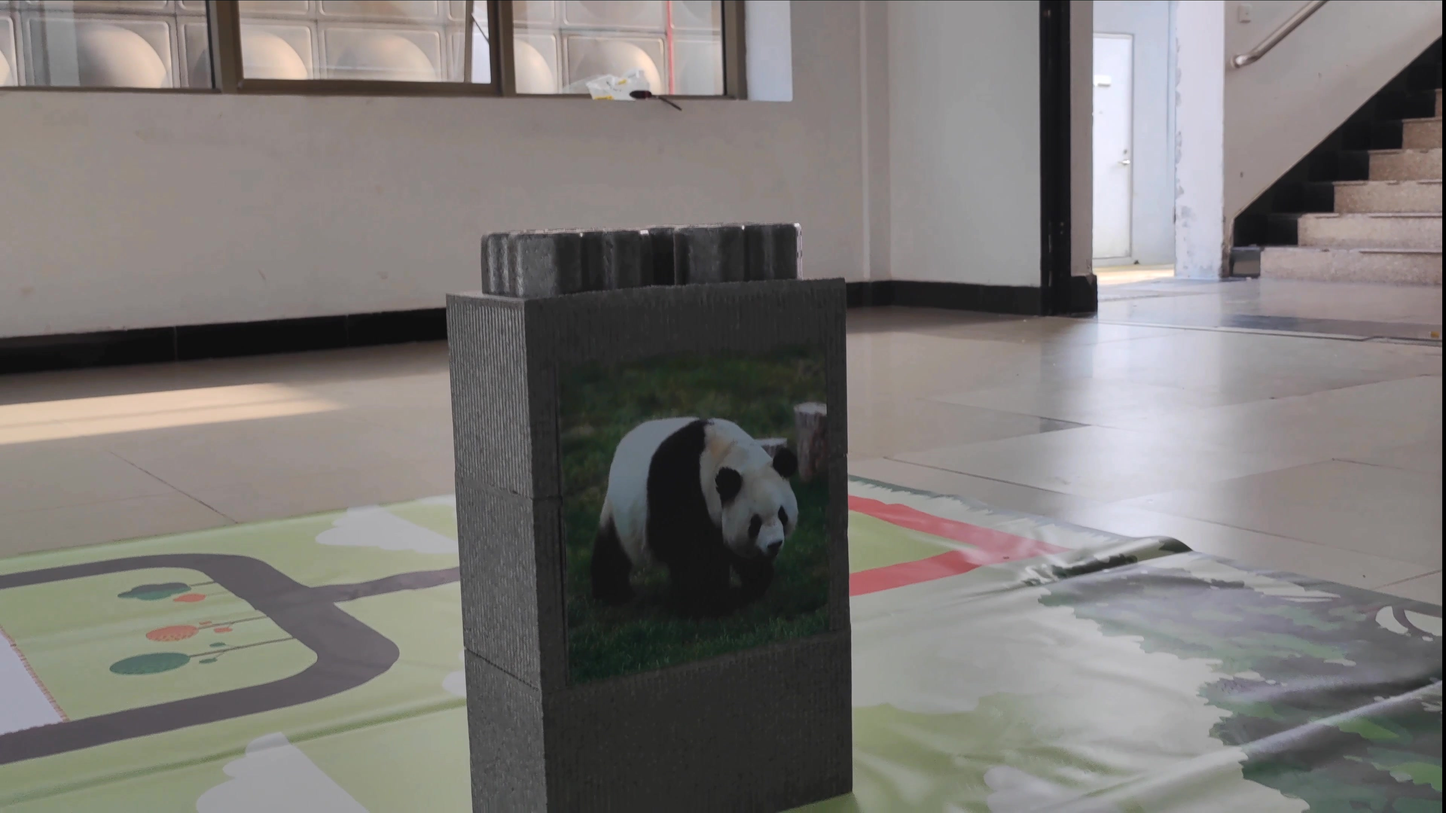panda: (558, 367, 823, 628)
